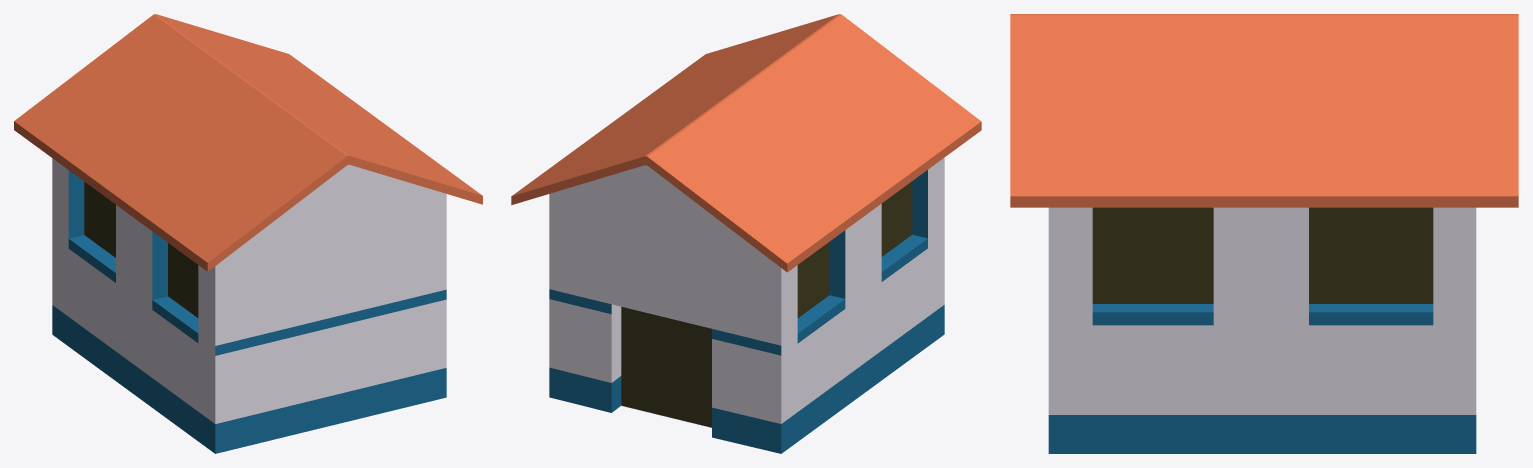
File: CasasMina1.fbx
3 renders of one model, left to right at view 1: azimuth 30°, elevation 25°; view 2: azimuth 150°, elevation 25°; view 3: azimuth 270°, elevation 25°, orthographic. The views are drawn at different scales.
Visible parts, largest first — view 1: Casas.001; view 2: Casas.001; view 3: Casas.001.
Boxes of the visible parts, x1,y1,x2,y2 form: Casas.001: (14,14,482,453); Casas.001: (511,14,981,453); Casas.001: (1010,14,1518,453).
Bounding box in the file's own units: 274 × 266 × 334.
